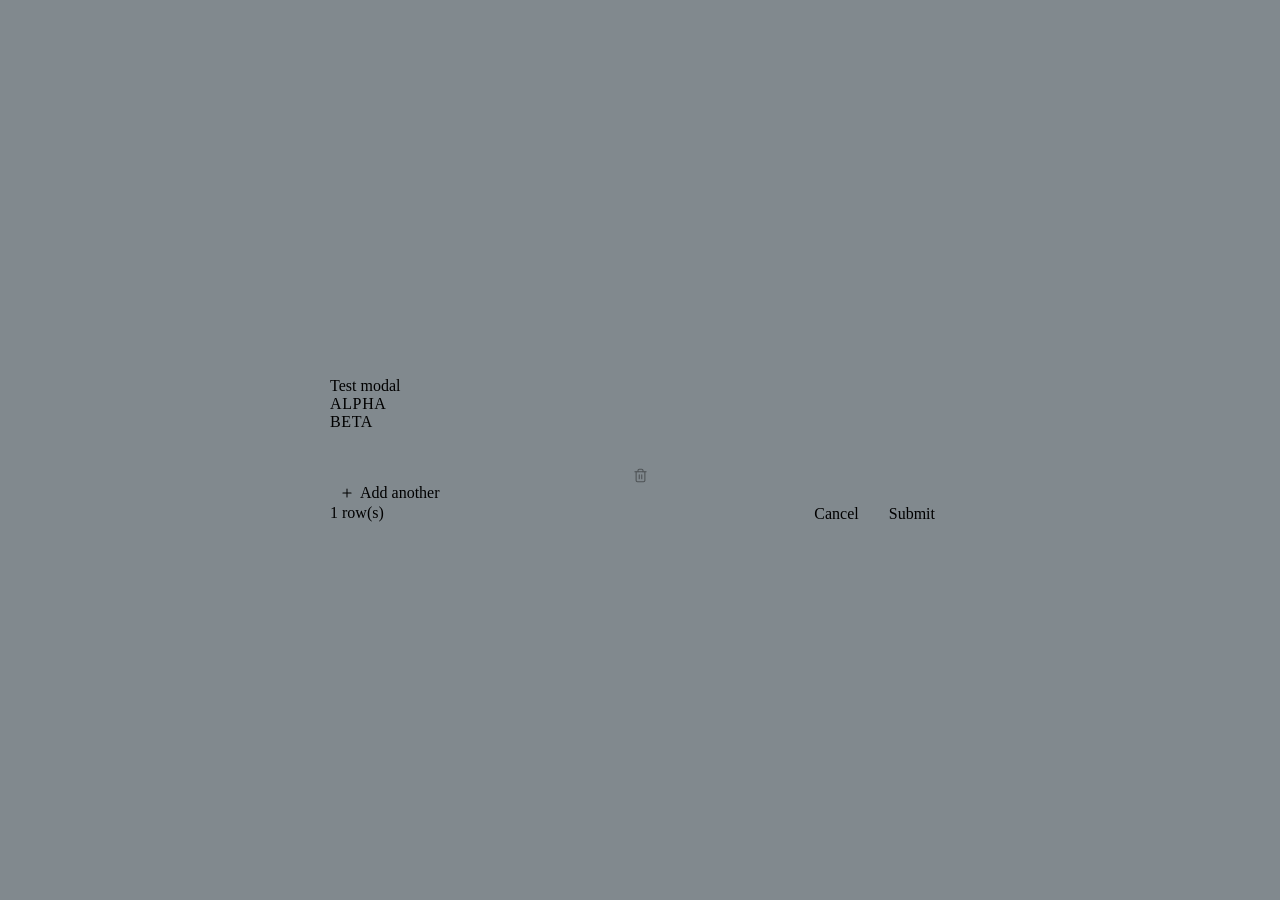
Scenario: the primitive: rows › adds a row on demand and counts them
This screenshot has width=1280, height=900.
Click the button with test id "multi-row-add": (390, 492) left=330, top=484, right=450, bottom=502
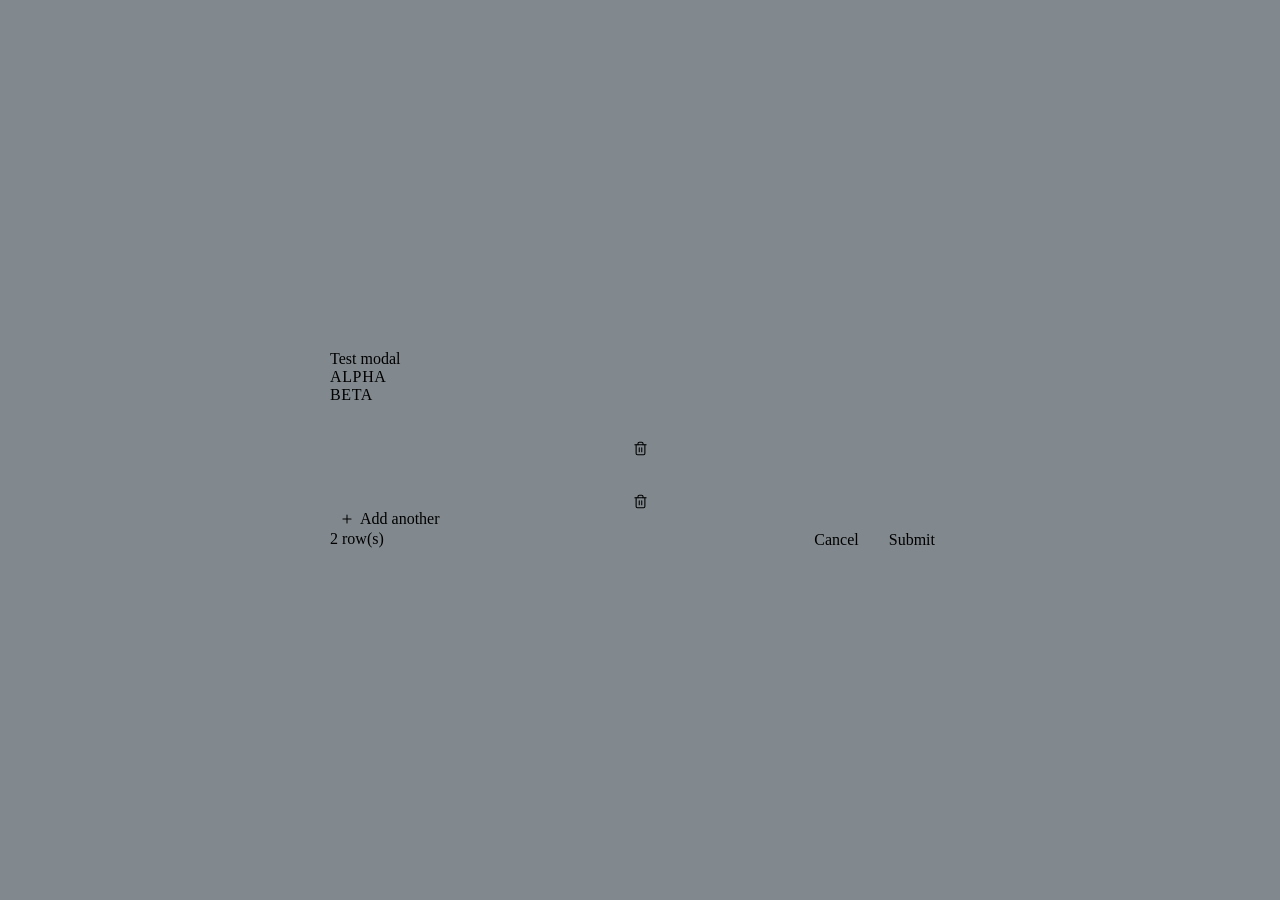
expect the text "2 row(s)" is shown: met, box left=330, top=530, right=384, bottom=547
